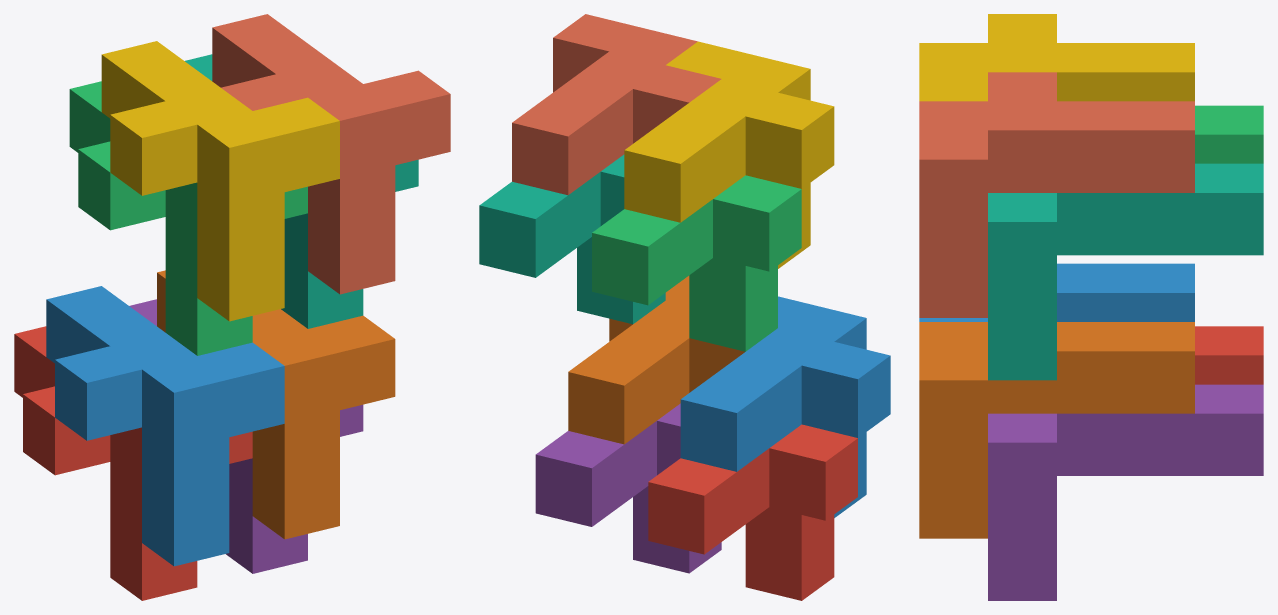
File: tiling.obj
3 views of the same model, side by side, from view 1: azimuth 30°, elevation 25°; view 2: azimuth 150°, elevation 25°; view 3: azimuth 270°, elevation 25° (orthographic). The views are drawn at different scales.
Visible parts, largest first — view 1: copy_1_domain_4, copy_1_domain_2, copy_1_domain_8, copy_1_domain_6, copy_1_domain_3, copy_1_domain_1, copy_1_domain_7, copy_1_domain_5; view 2: copy_1_domain_4, copy_1_domain_2, copy_1_domain_1, copy_1_domain_3, copy_1_domain_8, copy_1_domain_6, copy_1_domain_5, copy_1_domain_7; view 3: copy_1_domain_8, copy_1_domain_6, copy_1_domain_7, copy_1_domain_5, copy_1_domain_4, copy_1_domain_2, copy_1_domain_1, copy_1_domain_3.
Part boxes in pixels (x1=…): copy_1_domain_4: x1=101, y1=41, x2=339, y2=321; copy_1_domain_2: x1=46, y1=286, x2=284, y2=566; copy_1_domain_8: x1=212, y1=14, x2=450, y2=294; copy_1_domain_6: x1=157, y1=270, x2=395, y2=539; copy_1_domain_3: x1=69, y1=81, x2=307, y2=355; copy_1_domain_1: x1=14, y1=326, x2=252, y2=600; copy_1_domain_7: x1=185, y1=54, x2=418, y2=328; copy_1_domain_5: x1=129, y1=299, x2=363, y2=573; copy_1_domain_4: x1=624, y1=41, x2=834, y2=268; copy_1_domain_2: x1=680, y1=296, x2=890, y2=517; copy_1_domain_1: x1=648, y1=424, x2=857, y2=600; copy_1_domain_3: x1=592, y1=175, x2=801, y2=351; copy_1_domain_8: x1=512, y1=14, x2=721, y2=195; copy_1_domain_6: x1=568, y1=275, x2=745, y2=444; copy_1_domain_5: x1=535, y1=403, x2=721, y2=573; copy_1_domain_7: x1=479, y1=154, x2=665, y2=324; copy_1_domain_8: x1=919, y1=72, x2=1194, y2=317; copy_1_domain_6: x1=919, y1=322, x2=1194, y2=538; copy_1_domain_7: x1=988, y1=163, x2=1263, y2=380; copy_1_domain_5: x1=988, y1=384, x2=1263, y2=600; copy_1_domain_4: x1=919, y1=14, x2=1194, y2=101; copy_1_domain_2: x1=919, y1=263, x2=1194, y2=321; copy_1_domain_1: x1=1195, y1=326, x2=1263, y2=384; copy_1_domain_3: x1=1195, y1=105, x2=1263, y2=163.
Bounding box in the file's own units: 6 × 8 × 5.
